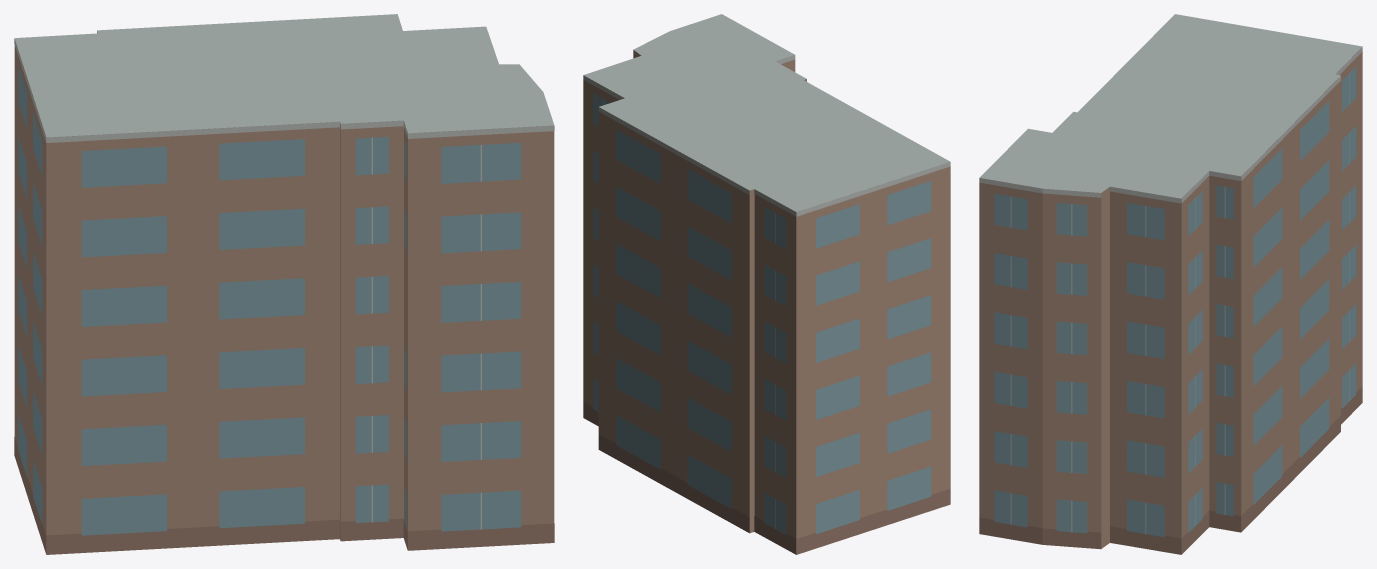
Rendered from survey-upis-32549412.glb.
3 renders of one model, left to right at view 1: azimuth 30°, elevation 25°; view 2: azimuth 150°, elevation 25°; view 3: azimuth 270°, elevation 25°, orthographic. The views are drawn at different scales.
Visible parts, largest first — view 1: survey-upis-32549412.tmp; view 2: survey-upis-32549412.tmp; view 3: survey-upis-32549412.tmp.
Boxes of the visible parts, left/top/right/bottom form: survey-upis-32549412.tmp: left=14, top=14, right=554, bottom=554; survey-upis-32549412.tmp: left=583, top=14, right=950, bottom=554; survey-upis-32549412.tmp: left=979, top=14, right=1362, bottom=554.
Size of the model in its own units: 20.14 by 18.1 by 17.66.
